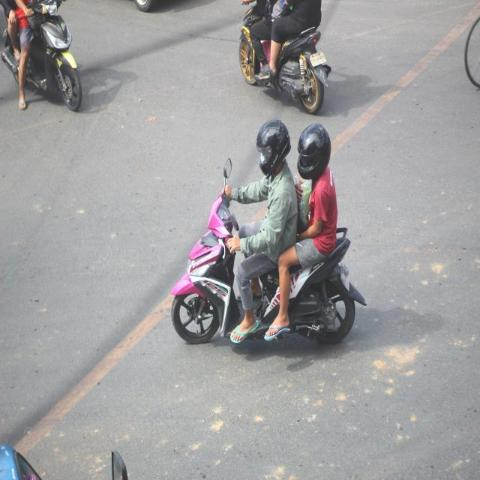motorcycle: (170, 118, 367, 345), (235, 0, 329, 114), (0, 0, 84, 112)
